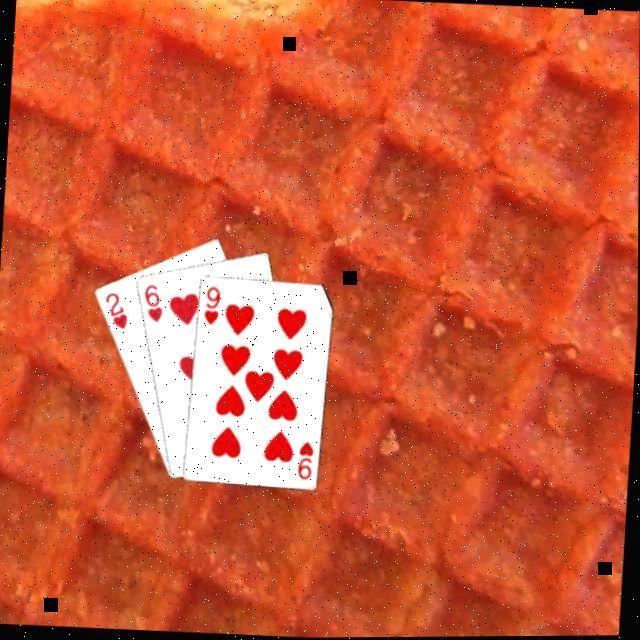2H: (100, 288, 130, 331)
6H: (139, 280, 165, 325)
9H: (200, 282, 223, 327), (293, 437, 316, 482)
